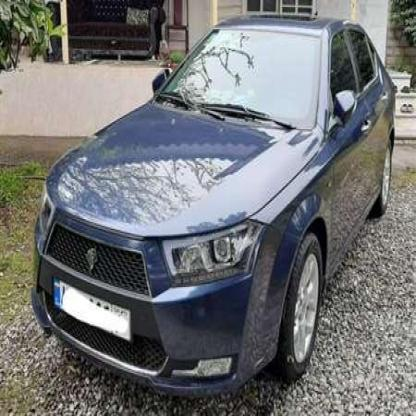Car: (30, 14, 400, 395)
